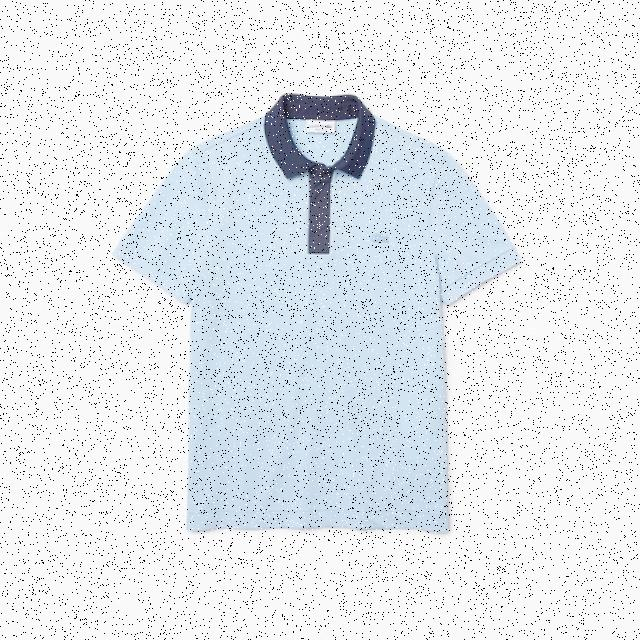Blouse_deep: (119, 79, 519, 554)
